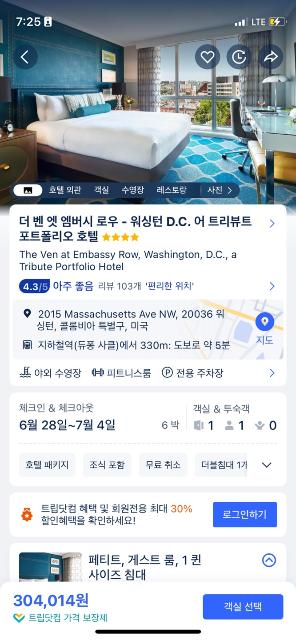BackgroundImage: (0, 1, 296, 216)
Card: (8, 204, 286, 386), (10, 392, 286, 488), (10, 492, 286, 536)
Icon: (102, 232, 140, 242), (256, 312, 274, 331), (14, 184, 42, 196), (262, 553, 276, 567), (232, 50, 246, 64), (264, 50, 278, 64), (201, 51, 215, 63), (20, 49, 30, 65), (19, 367, 31, 378), (161, 367, 173, 377), (92, 368, 105, 376), (194, 421, 204, 431), (224, 420, 234, 430), (22, 339, 32, 349), (256, 420, 264, 430), (23, 308, 31, 318), (262, 462, 272, 468), (270, 368, 274, 378), (270, 282, 274, 290), (270, 219, 274, 227), (228, 186, 232, 194)
Image: (14, 299, 284, 359), (20, 508, 34, 522)
ImageButton: (196, 43, 220, 69), (226, 44, 252, 68), (259, 44, 283, 70), (15, 45, 38, 69)
Multi_Tab: (10, 182, 240, 198)
Text: (21, 216, 252, 242), (20, 250, 236, 272), (38, 310, 224, 332), (42, 505, 192, 525), (90, 555, 200, 579), (14, 594, 106, 622), (38, 340, 230, 350), (53, 282, 193, 292), (19, 420, 115, 432), (18, 403, 94, 412), (33, 369, 81, 379), (192, 405, 250, 413), (202, 460, 246, 470), (223, 510, 265, 520), (224, 602, 262, 612), (108, 369, 150, 378), (177, 369, 223, 377), (90, 460, 124, 470), (147, 460, 181, 470), (26, 461, 68, 469), (50, 186, 82, 194), (158, 186, 186, 194), (24, 284, 49, 292), (122, 186, 144, 194), (256, 336, 274, 344), (162, 421, 178, 429), (95, 186, 109, 194), (208, 186, 222, 194), (268, 420, 276, 430), (208, 420, 214, 430), (240, 422, 244, 431)
TextButton: (205, 594, 283, 618), (214, 503, 276, 527), (19, 454, 74, 478), (194, 452, 248, 476), (84, 453, 130, 477), (140, 454, 186, 476)
UpperTaskBar: (0, 0, 296, 34)
